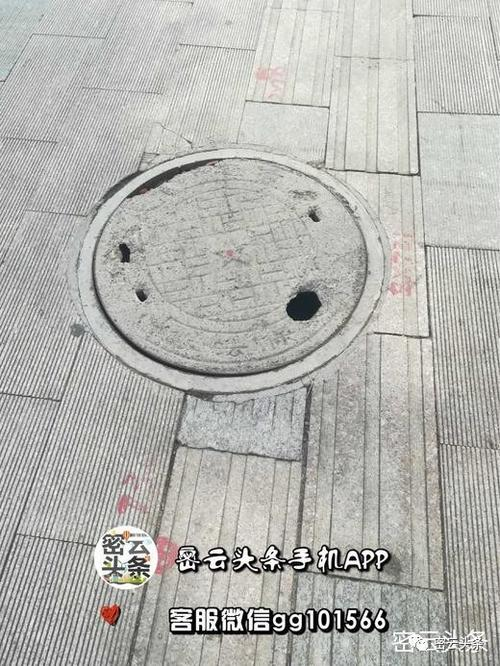broke: (53, 120, 405, 404)
